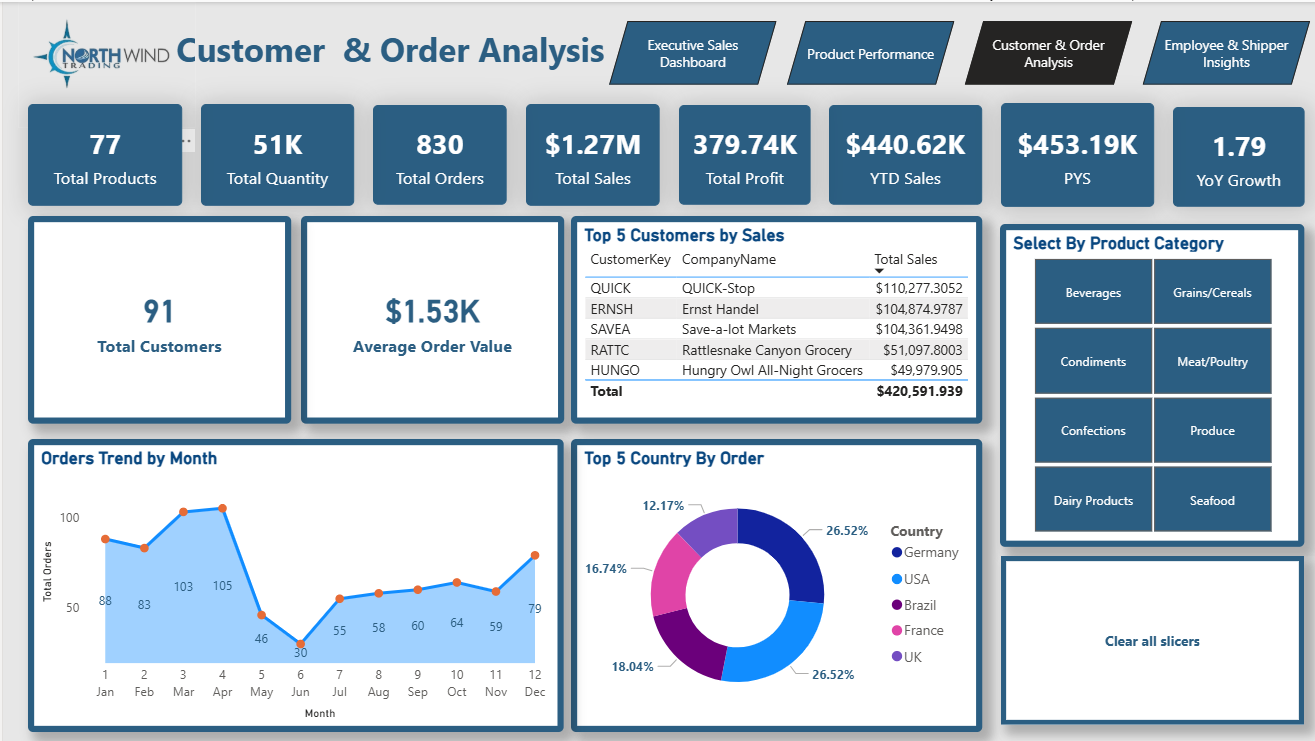

The dashboard page shown, as its layout file describes it:
{"tool":"powerbi","page":{"name":"Customer  & Order Analysis","canvas":[1280,720],"ordinal":2},"visuals":[{"type":"card","fields":{"Values":["Measurestbl.Total Sales"]},"box":[508.6,99.6,130.3,99.2],"z":0},{"type":"textbox","box":[163.4,18.5,465.9,62.2],"z":1000},{"type":"image","box":[14.6,0,173.1,122.6],"z":2000},{"type":"card","fields":{"Values":["Measurestbl.YTD Sales"]},"box":[803.8,100.5,148.8,97.3],"z":3000},{"type":"card","fields":{"Values":["Measurestbl.YoY Growth"]},"box":[1138,102.1,128.4,97.3],"z":4000},{"type":"card","fields":{"Values":["Measurestbl.Total Orders"]},"box":[359.9,100.5,130.3,97.3],"z":5000},{"type":"card","fields":{"Values":["Measurestbl.Previous Year Sales"]},"box":[970.9,98.6,148.8,101.2],"z":6000},{"type":"card","fields":{"Values":["Measurestbl.Total Quantity"]},"box":[192.9,99.6,148.8,99.2],"z":7000},{"type":"card","fields":{"Values":["Measurestbl.Total Products"]},"box":[24.3,99.6,150.3,99.2],"z":8000},{"type":"card","fields":{"Values":["Measurestbl.Total Profit"]},"box":[657.2,100.5,128.4,97.3],"z":9000},{"type":"pageNavigator","box":[589.4,18.5,684.7,62.2],"z":10000},{"type":"donutChart","title":"Top 5 Country By Order","fields":{"Y":["Measurestbl.Total Orders"],"Category":["DimCustomer.Country"]},"box":[552.5,425,399.8,285],"z":11000},{"type":"card","fields":{"Values":["Measurestbl.Average Order Value"]},"box":[289.8,208.1,255.8,202.3],"z":12000},{"type":"stackedAreaChart","title":"Orders Trend by Month","fields":{"Category":["DimDate.Month Name","DimDate.Month"],"Y":["Measurestbl.Total Orders"]},"box":[24.3,425,521.3,285],"z":13000},{"type":"slicer","title":"Select By Product Category","fields":{"Values":["DimProudcts.CategoryName"]},"box":[969.7,215.9,295.7,314.2],"z":14000},{"type":"tableEx","title":"Top 5 Customers by Sales","fields":{"Values":["DimCustomer.CustomerKey","DimCustomer.CompanyName","Measurestbl.Total Sales"]},"box":[552.5,208.1,399.8,202.3],"z":15000},{"type":"card","fields":{"Values":["Measurestbl.Total Customers"]},"box":[24.3,208.1,255.8,202.3],"z":16000},{"type":"actionButton","box":[970.7,538.8,294.7,164.4],"z":17000}]}

Visuals, with their boxes in screenshot pixels (x1, y1, x2, y2), scaled from the page's 1280x720 canvas onto the 1315x741 screenshot:
card - Measurestbl.Total Sales: bbox=(523, 103, 656, 205)
textbox: bbox=(168, 19, 647, 83)
image: bbox=(15, 0, 193, 126)
card - Measurestbl.YTD Sales: bbox=(826, 103, 979, 204)
card - Measurestbl.YoY Growth: bbox=(1169, 105, 1301, 205)
card - Measurestbl.Total Orders: bbox=(370, 103, 504, 204)
card - Measurestbl.Previous Year Sales: bbox=(997, 101, 1150, 206)
card - Measurestbl.Total Quantity: bbox=(198, 103, 351, 205)
card - Measurestbl.Total Products: bbox=(25, 103, 179, 205)
card - Measurestbl.Total Profit: bbox=(675, 103, 807, 204)
pageNavigator: bbox=(606, 19, 1309, 83)
"Top 5 Country By Order" donutChart: bbox=(568, 437, 978, 731)
card - Measurestbl.Average Order Value: bbox=(298, 214, 561, 422)
"Orders Trend by Month" stackedAreaChart: bbox=(25, 437, 561, 731)
"Select By Product Category" slicer: bbox=(996, 222, 1300, 546)
"Top 5 Customers by Sales" tableEx: bbox=(568, 214, 978, 422)
card - Measurestbl.Total Customers: bbox=(25, 214, 288, 422)
actionButton: bbox=(997, 555, 1300, 724)
